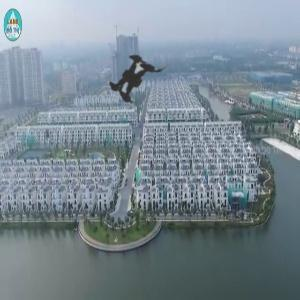drone: (73, 23, 189, 139)
